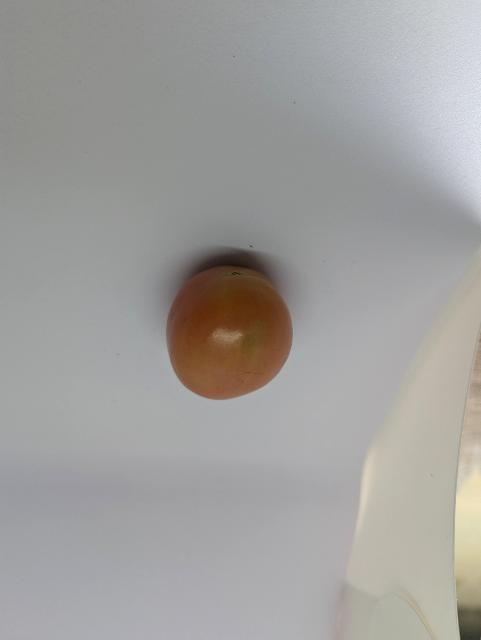turning: (148, 253, 316, 416)
